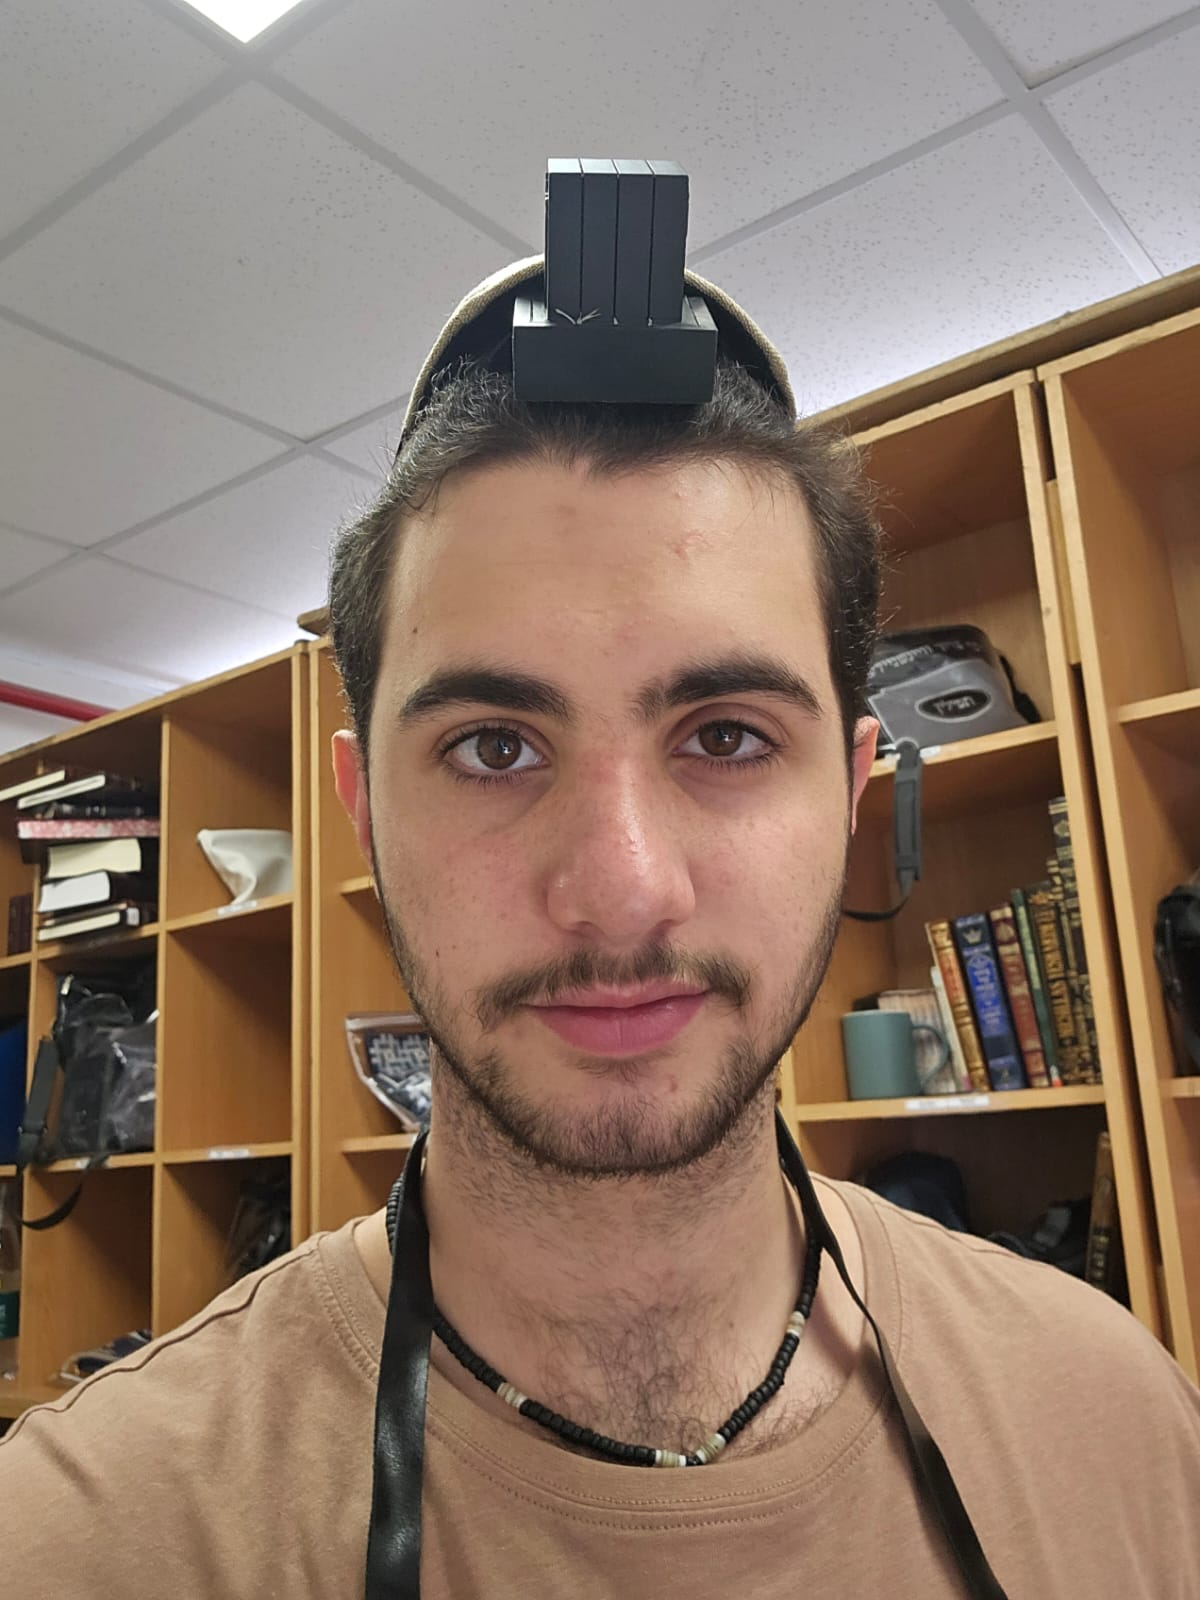tefillin: (513, 157, 721, 402)
